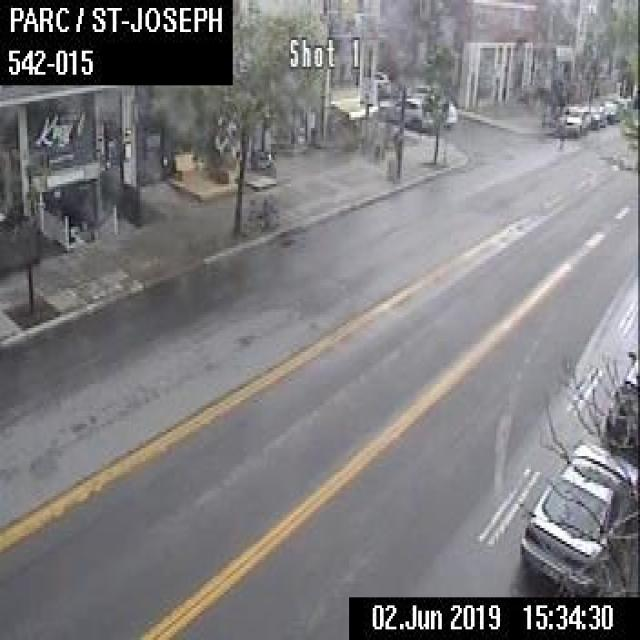vehicle: (518, 439, 638, 595), (598, 349, 638, 460), (408, 80, 457, 126), (391, 95, 432, 128), (556, 103, 590, 136), (600, 96, 622, 122), (586, 100, 605, 127), (376, 67, 393, 93), (636, 512, 638, 515)
